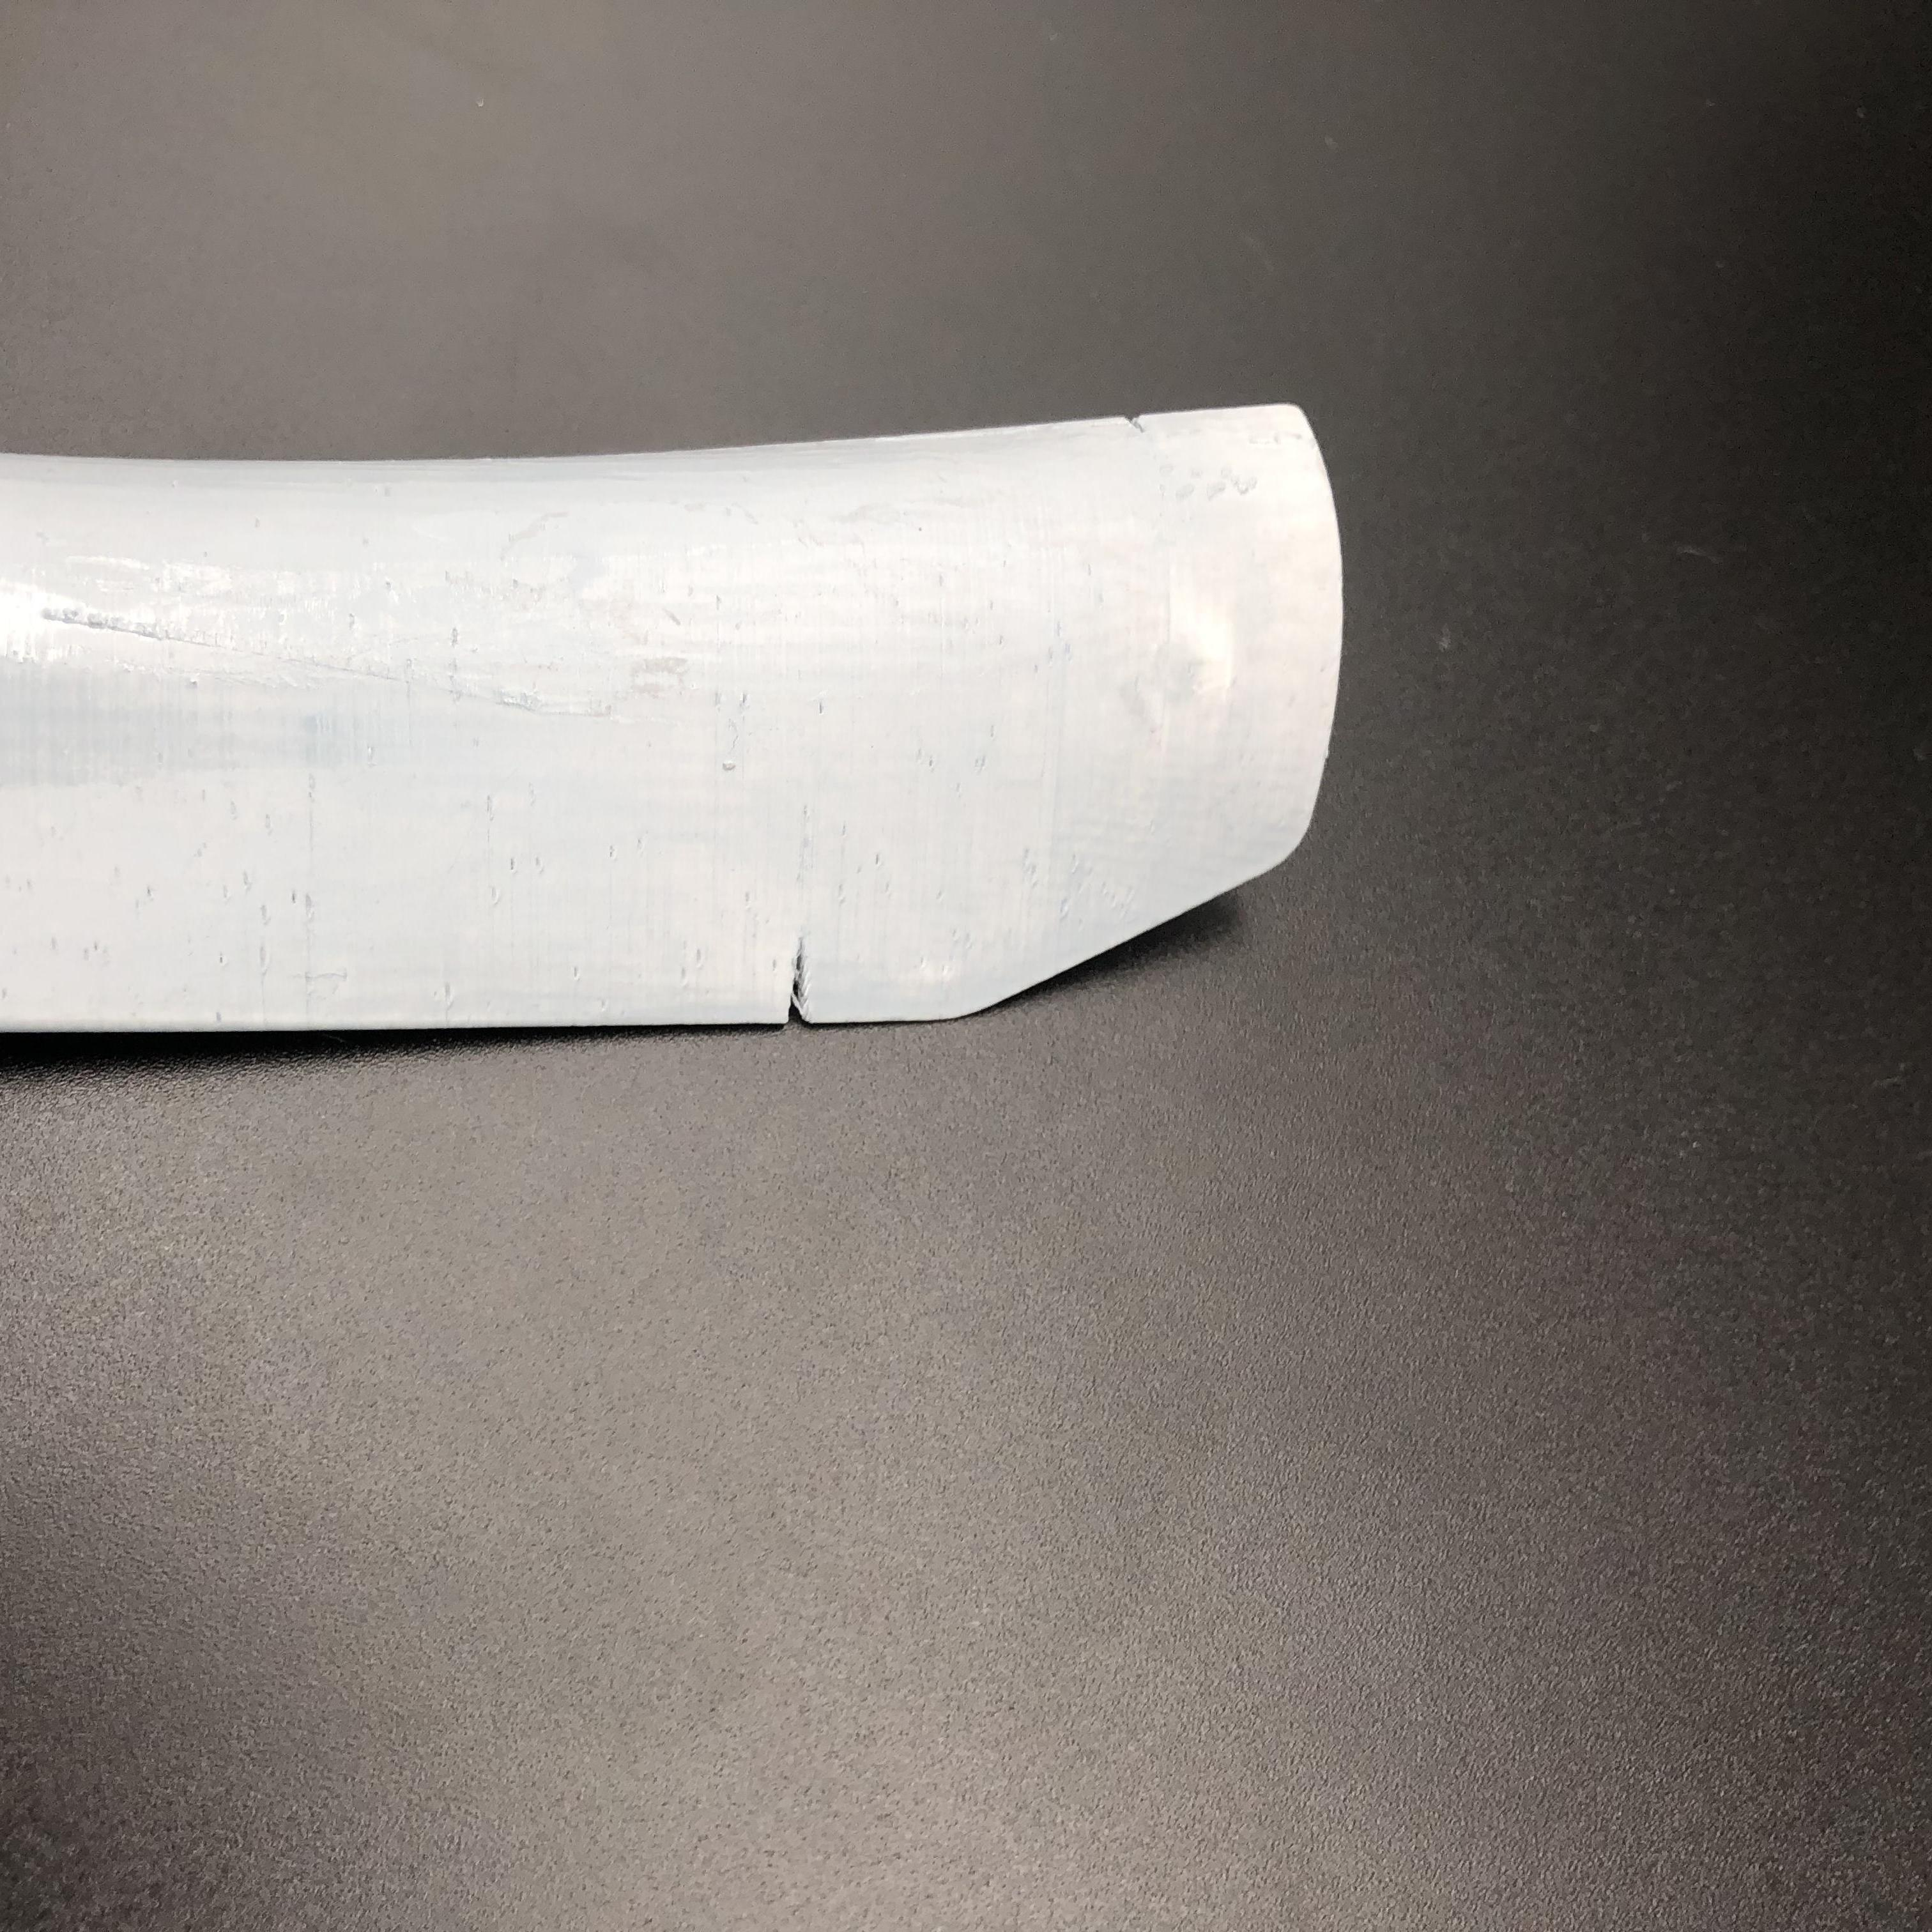groove: (775, 938, 824, 1028), (1116, 410, 1161, 432)
